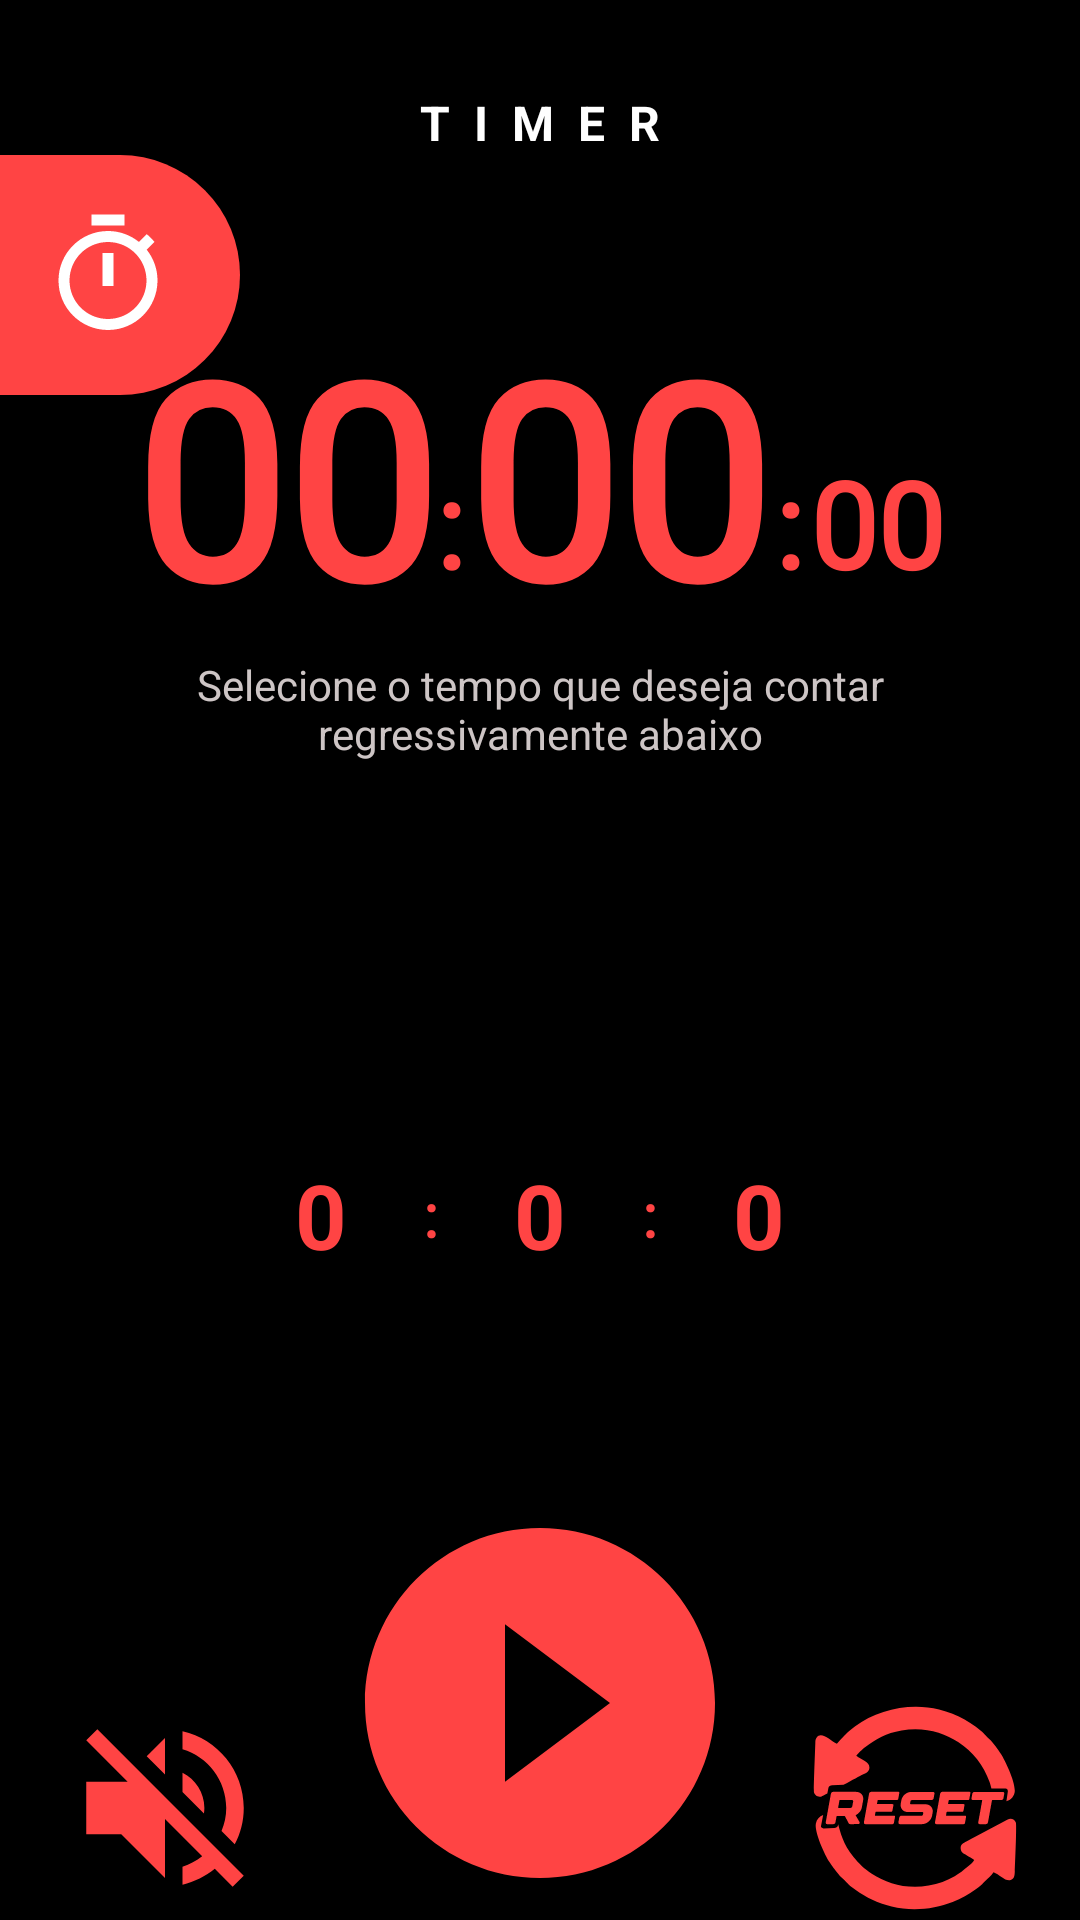

Named icons in this screenshot (1080px×1920px) and their bounding boxes, (x1, y1, x2, y2):
chronometer main play: (365, 1528, 715, 1878)
timer: (0, 155, 240, 395)
volum off: (86, 1729, 244, 1887)
